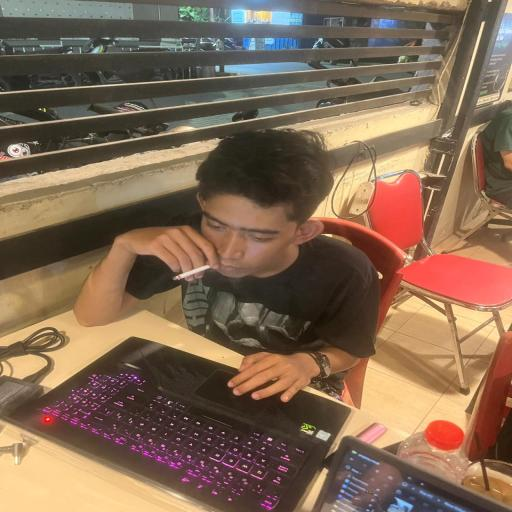merokok: (144, 206, 243, 319)
